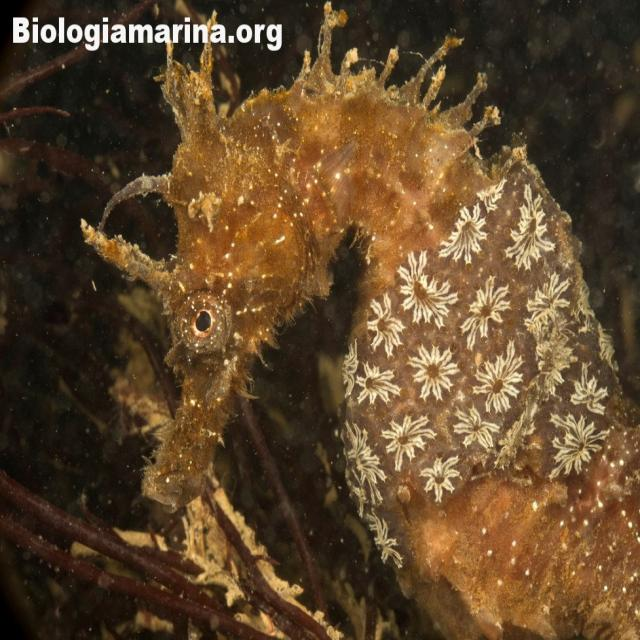Guttu: (130, 74, 348, 530)
